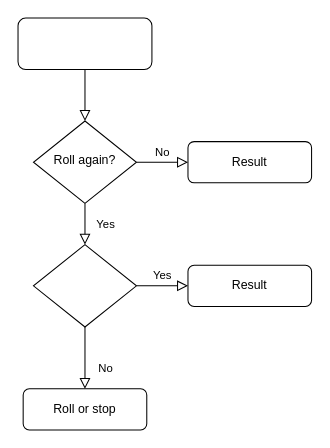
This 330x448 diagram has some shape labels left out. Here are the shapes that lost their labels. From the top down, the box of each, then its label:
(17, 17, 152, 70): Choose how many dices and Bitcoins. Dice/dices are rolled.
(32, 244, 136, 327): Sum 21 or over?
